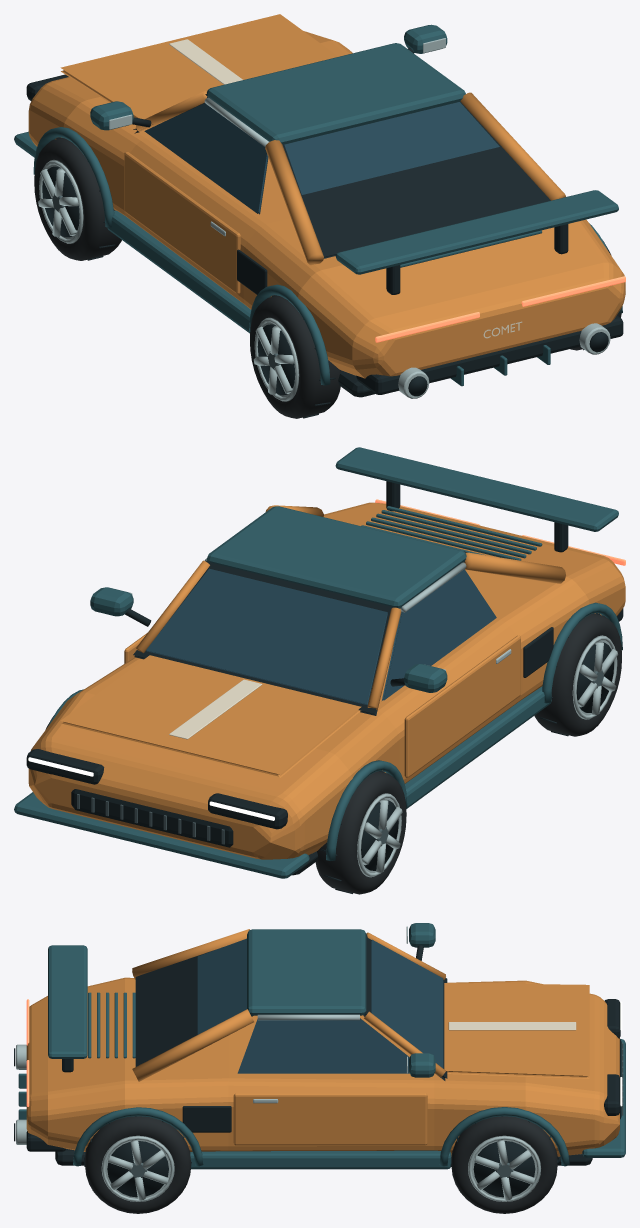
The model's file is comet-sport.glb.
3 views of the same model, one above another, from view 1: azimuth 30°, elevation 25°; view 2: azimuth 150°, elevation 25°; view 3: azimuth 270°, elevation 25° (orthographic). The views are drawn at different scales.
Visible parts, largest first — view 1: Sculpted monocoque, Floating roof, Fastback gasket, Hood inset, Fastback glass, Rear aerofoil, Inset door skin, Door window, Rounded tire carcass.001, Rounded tire carcass, Side sill, Rear diffuser (+16 smaller); view 2: Sculpted monocoque, Swept windshield, Hood inset, Floating roof, Rear aerofoil, Inset door skin, Door window, Rounded tire carcass, Front splitter, Rounded tire carcass.001, Side sill, Front intake (+21 smaller); view 3: Sculpted monocoque, Hood inset, Floating roof, Inset door skin.001, Door window.001, Swept windshield, Fastback gasket, Side sill.001, Rounded tire carcass.002, Rounded tire carcass.003, Rear aerofoil, Fastback glass (+23 smaller).
Part boxes in pixels (x1,y1,x2,y2): Sculpted monocoque: (28,31,625,378); Floating roof: (207,43,465,144); Fastback gasket: (282,101,550,258); Hood inset: (60,14,338,119); Fastback glass: (284,102,499,194); Rear aerofoil: (335,190,618,274); Inset door skin: (124,152,240,294); Door window: (144,103,268,214); Rounded tire carcass.001: (250,295,341,418); Rounded tire carcass: (34,138,121,260); Side sill: (107,210,251,333); Rear diffuser: (356,315,623,394); Sculpted monocoque: (28,502,625,859); Swept windshield: (146,568,387,705); Hood inset: (60,655,361,777); Floating roof: (206,506,466,608); Rear aerofoil: (335,447,618,531); Inset door skin: (404,635,520,777); Door window: (382,569,496,700); Rounded tire carcass: (315,771,406,894); Front splitter: (14,792,309,878); Rounded tire carcass.001: (534,613,621,736); Side sill: (405,686,551,808); Front intake: (71,789,233,847); Sculpted monocoque: (26,977,619,1156); Hood inset: (444,983,589,1078); Floating roof: (247,929,366,1015); Inset door skin.001: (233,1093,427,1145); Door window.001: (237,1018,409,1073); Swept windshield: (371,939,443,1068); Fastback gasket: (135,949,253,1066); Side sill.001: (190,1150,451,1169); Rounded tire carcass.002: (451,1116,557,1213); Rounded tire carcass.003: (85,1116,191,1213); Rear aerofoil: (48,945,87,1058); Fastback glass: (197,938,246,1034).
Bounding box in the file's own units: 2.57 × 1.53 × 4.61.
